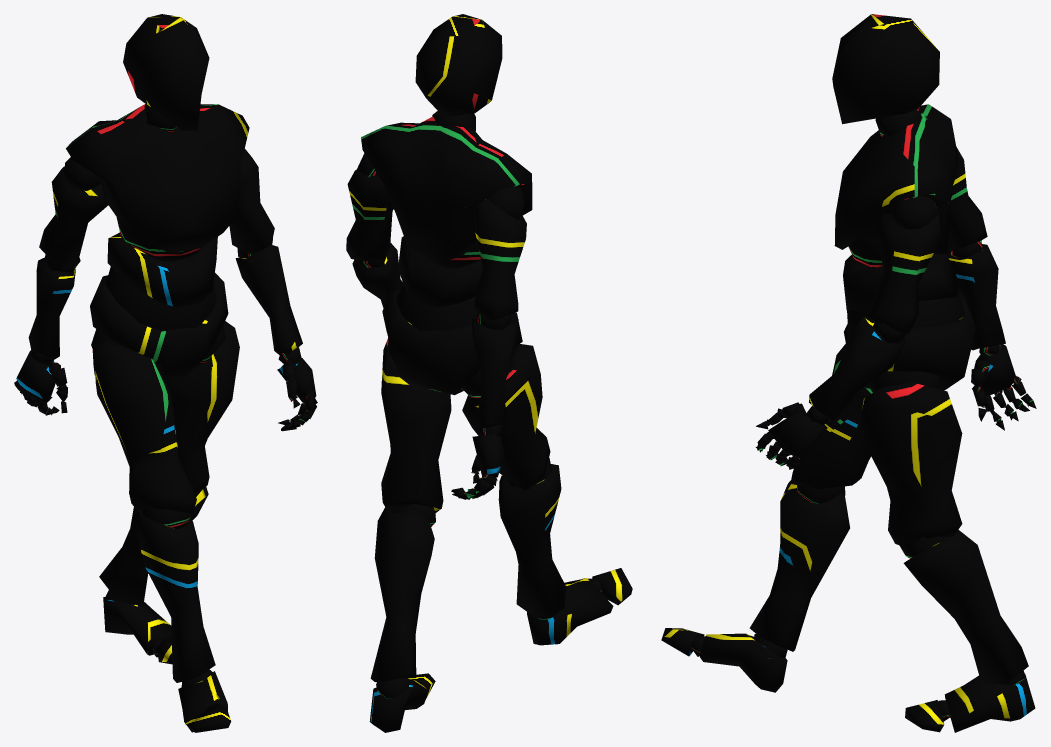
File: y-bot-origin_000003.obj
3 views of the same model, side by side, from view 1: azimuth 30°, elevation 25°; view 2: azimuth 150°, elevation 25°; view 3: azimuth 270°, elevation 25° (orthographic). The views are drawn at different scales.
Visible parts, largest first — view 1: Alpha_Surface_Alpha_SurfaceMesh, Alpha_Joints_Alpha_JointsMesh; view 2: Alpha_Surface_Alpha_SurfaceMesh, Alpha_Joints_Alpha_JointsMesh; view 3: Alpha_Surface_Alpha_SurfaceMesh, Alpha_Joints_Alpha_JointsMesh.
Part boxes in pixels (bbox=[...]): Alpha_Surface_Alpha_SurfaceMesh: bbox=[14, 14, 316, 732]; Alpha_Joints_Alpha_JointsMesh: bbox=[14, 104, 317, 710]; Alpha_Surface_Alpha_SurfaceMesh: bbox=[346, 14, 632, 732]; Alpha_Joints_Alpha_JointsMesh: bbox=[357, 111, 602, 699]; Alpha_Surface_Alpha_SurfaceMesh: bbox=[661, 14, 1036, 732]; Alpha_Joints_Alpha_JointsMesh: bbox=[690, 109, 1028, 721].
Bounding box in the file's own units: 0.5558 × 1.76 × 0.8637.
